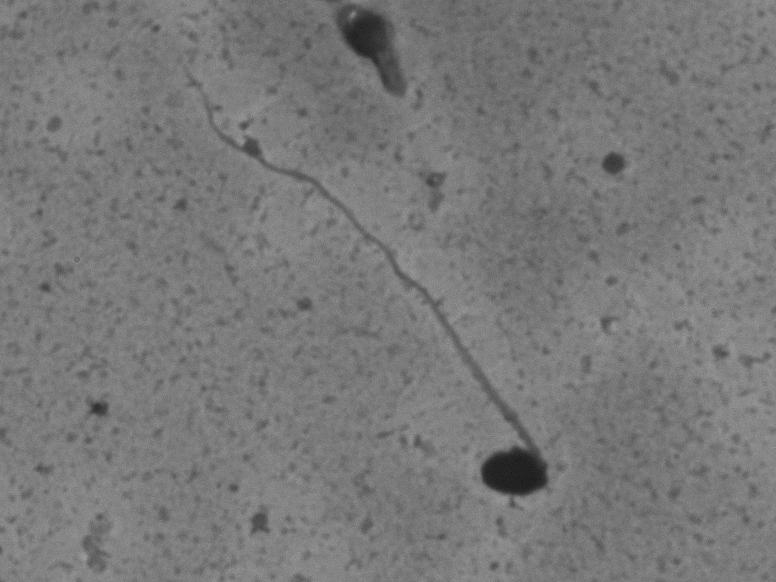Abnormal: (151, 66, 586, 510)
